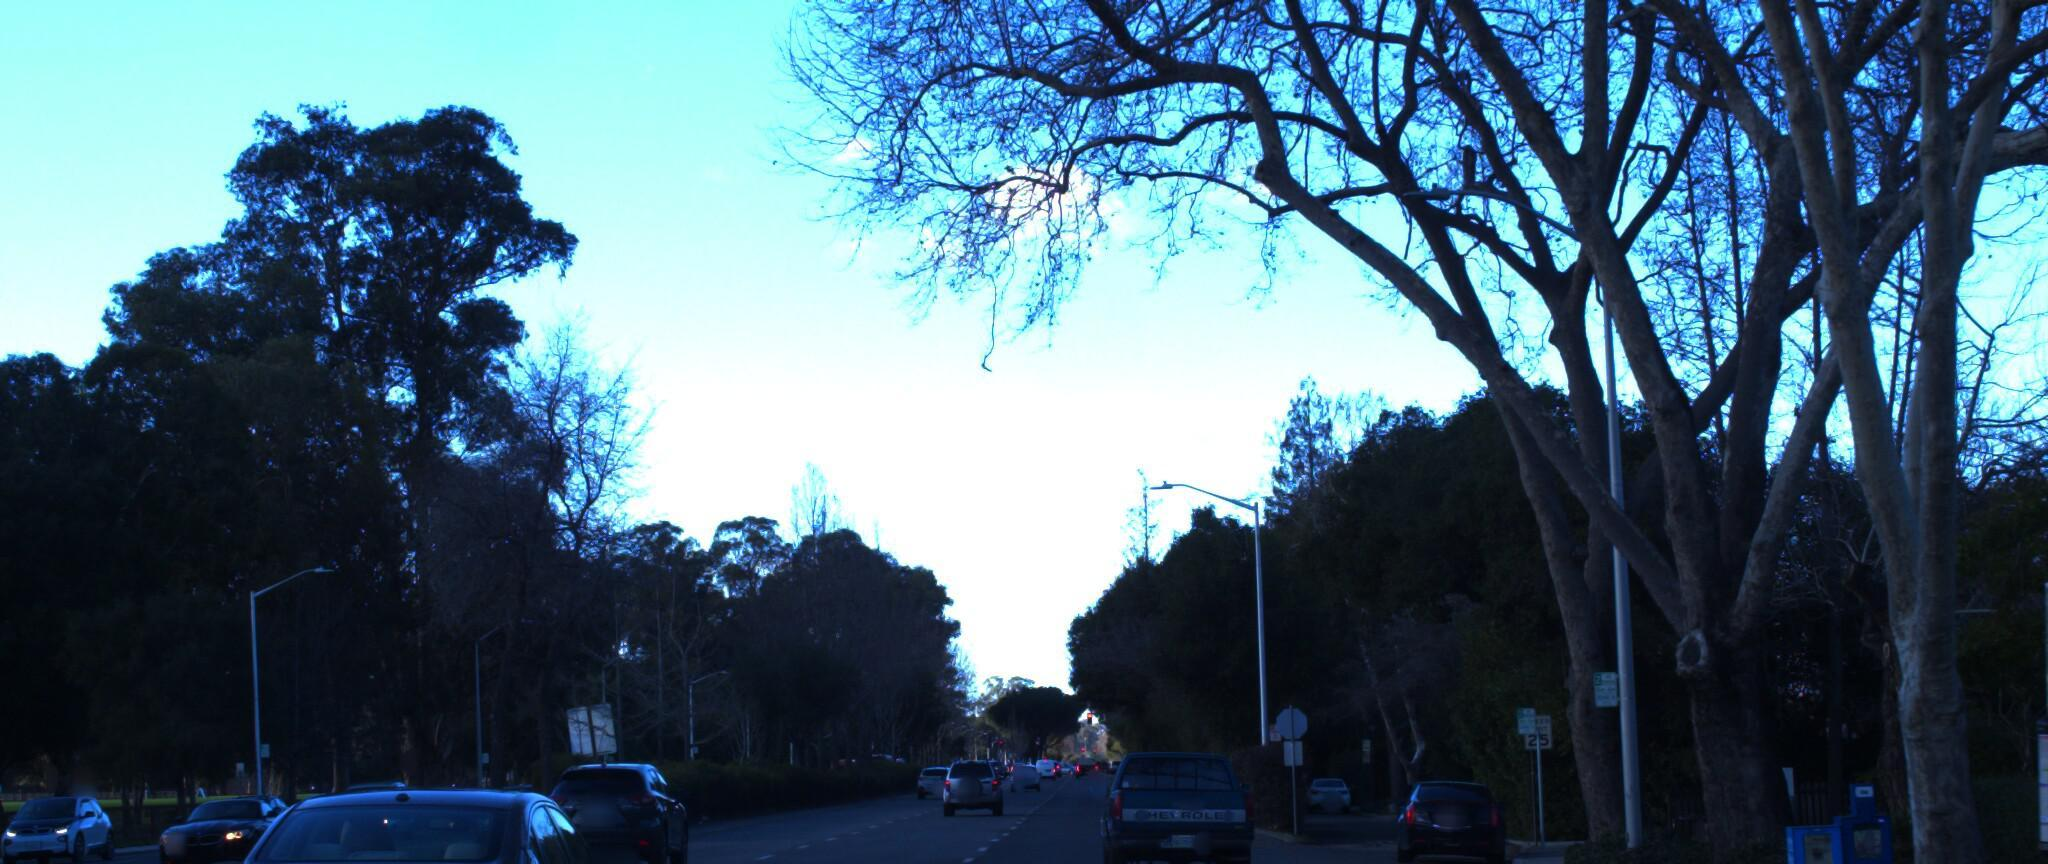car: (131, 765, 660, 864), (1084, 730, 1279, 864), (525, 740, 692, 864), (142, 775, 303, 863), (1387, 760, 1501, 852), (0, 779, 121, 856)
